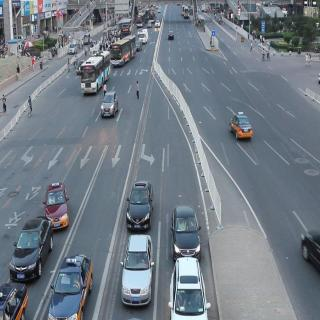BigCar: (83, 49, 110, 91), (114, 30, 136, 66)
Car: (166, 259, 216, 317), (34, 166, 76, 235), (52, 245, 91, 316), (17, 208, 51, 280), (168, 197, 207, 255), (125, 173, 158, 231), (126, 230, 151, 303), (226, 102, 260, 153), (99, 88, 124, 124), (168, 29, 175, 46)
